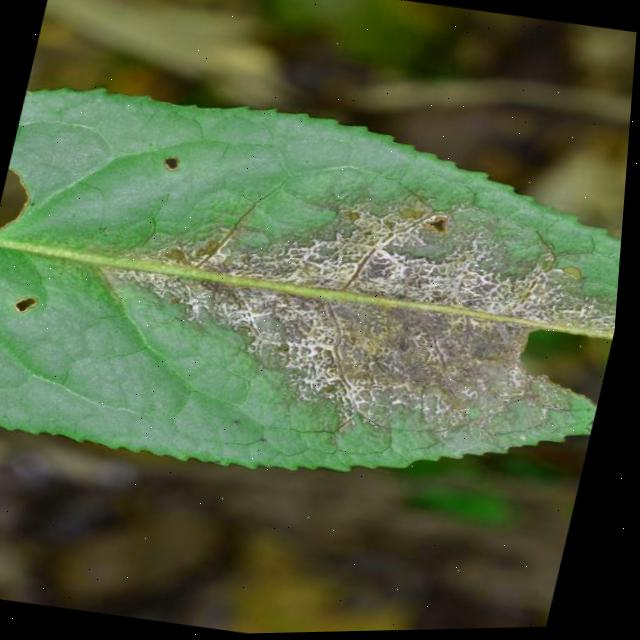Tea exobasidium blight: (136, 175, 624, 449)
